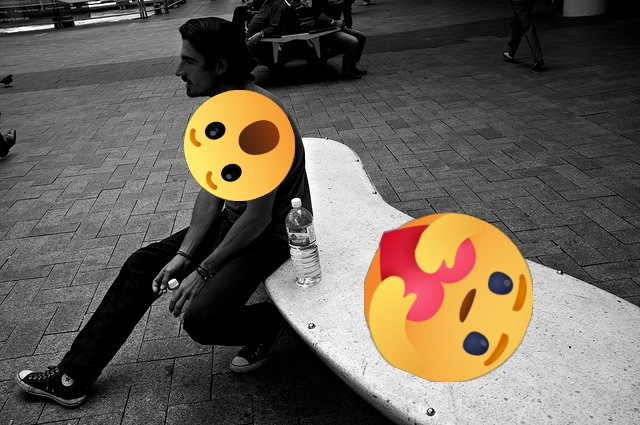care: (364, 213, 533, 382)
wow: (184, 90, 295, 201)
